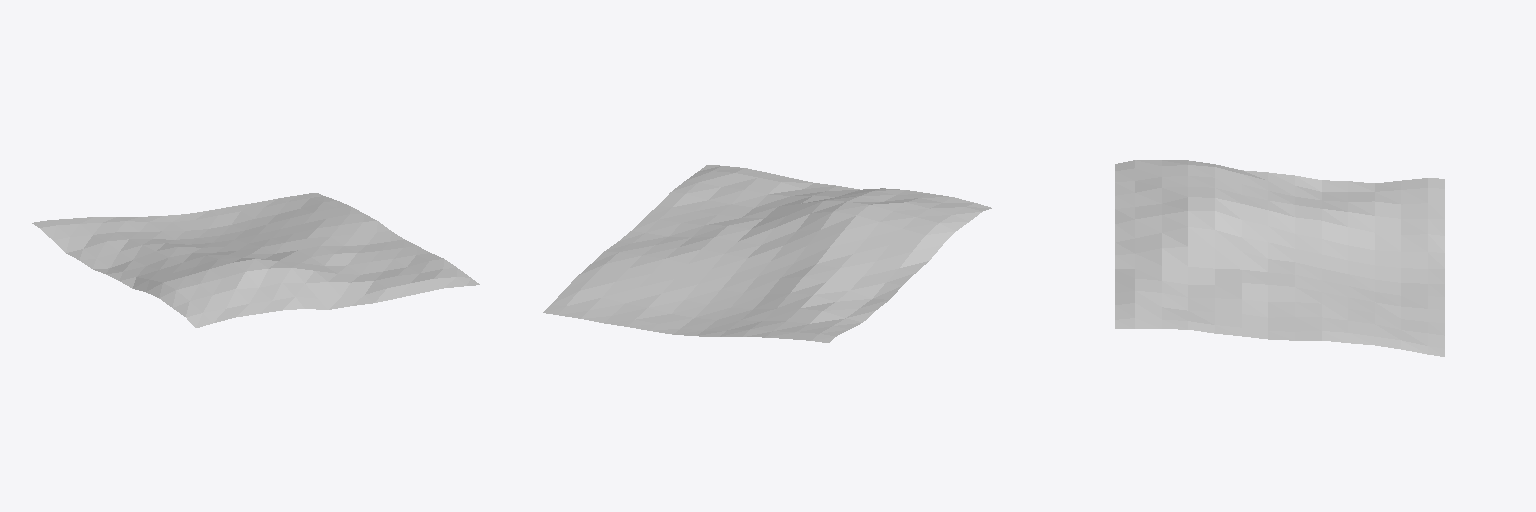
Rendered from Landscape.062.obj.
3 renders of one model, left to right at view 1: azimuth 30°, elevation 25°; view 2: azimuth 150°, elevation 25°; view 3: azimuth 270°, elevation 25°, orthographic.
Parts seen in each view (by area): view 1: Landscape.062; view 2: Landscape.062; view 3: Landscape.062.
Boxes of the visible parts, x1=… form: Landscape.062: x1=32, y1=193, x2=479, y2=327; Landscape.062: x1=543, y1=165, x2=991, y2=342; Landscape.062: x1=1115, y1=160, x2=1444, y2=356.
Bounding box in the file's own units: 32 × 6.76 × 32.